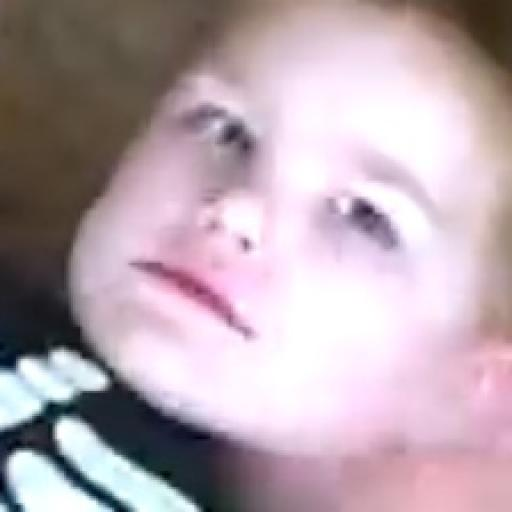Autism: (89, 64, 411, 461)
